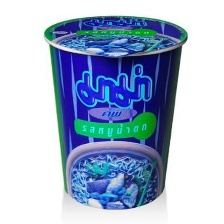paper_cup: (39, 10, 191, 213)
